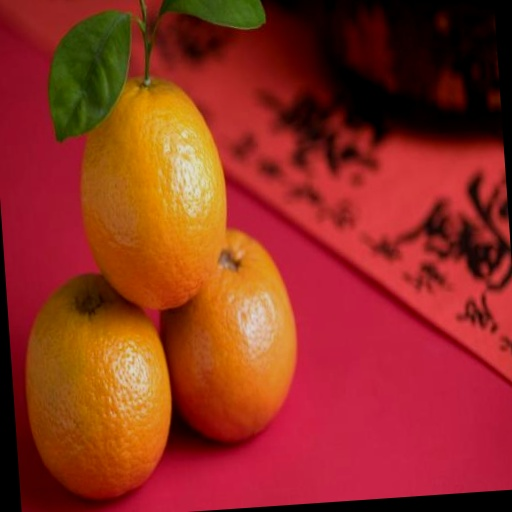fruit: (82, 79, 226, 309), (26, 275, 171, 499), (162, 230, 296, 442)
